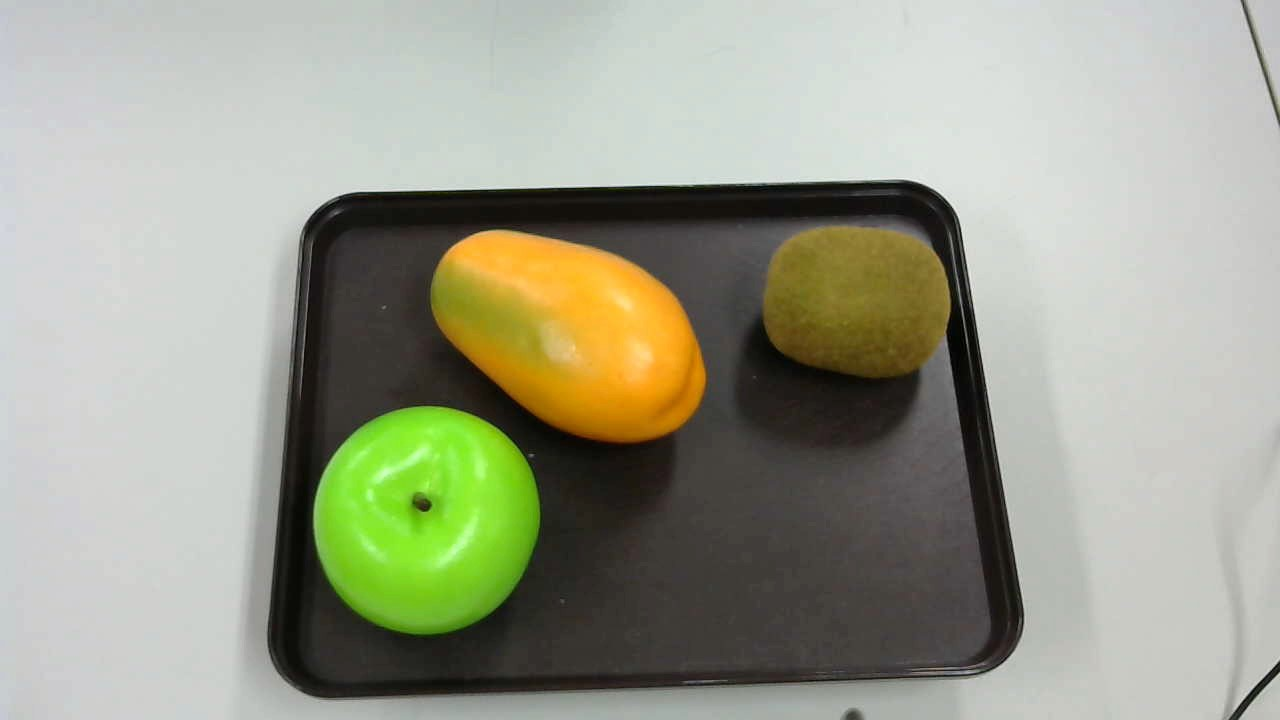green apple: (307, 406, 541, 636)
kiwi fruit: (762, 217, 953, 384)
papya: (430, 227, 714, 447)
